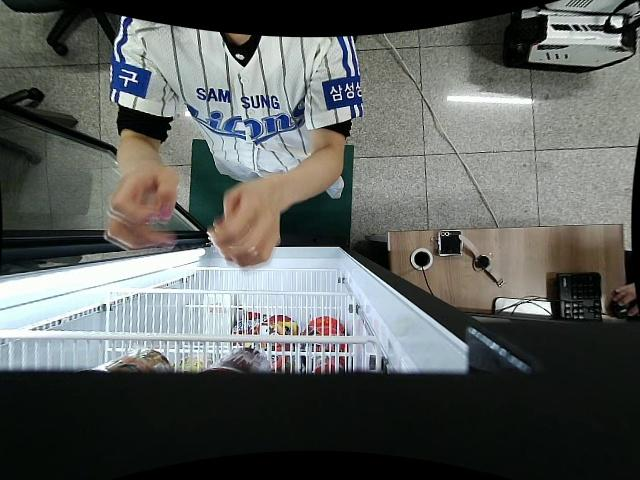00_hand: (105, 161, 179, 254), (207, 179, 279, 269)
